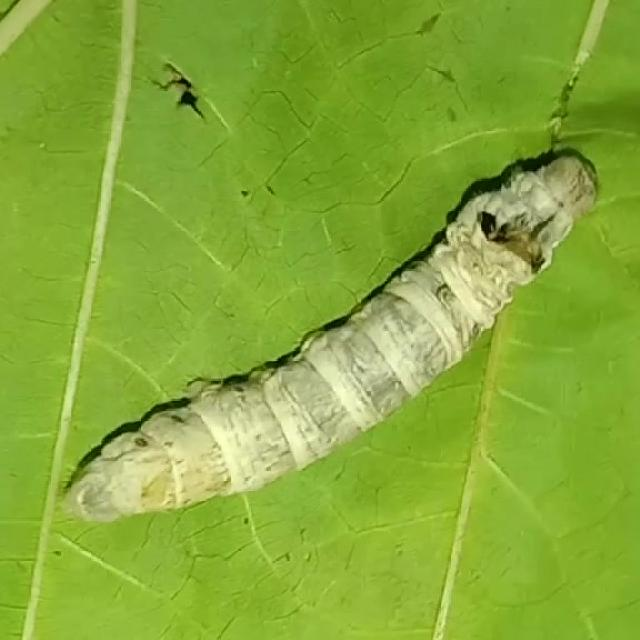Grasserie: (57, 90, 597, 529)
